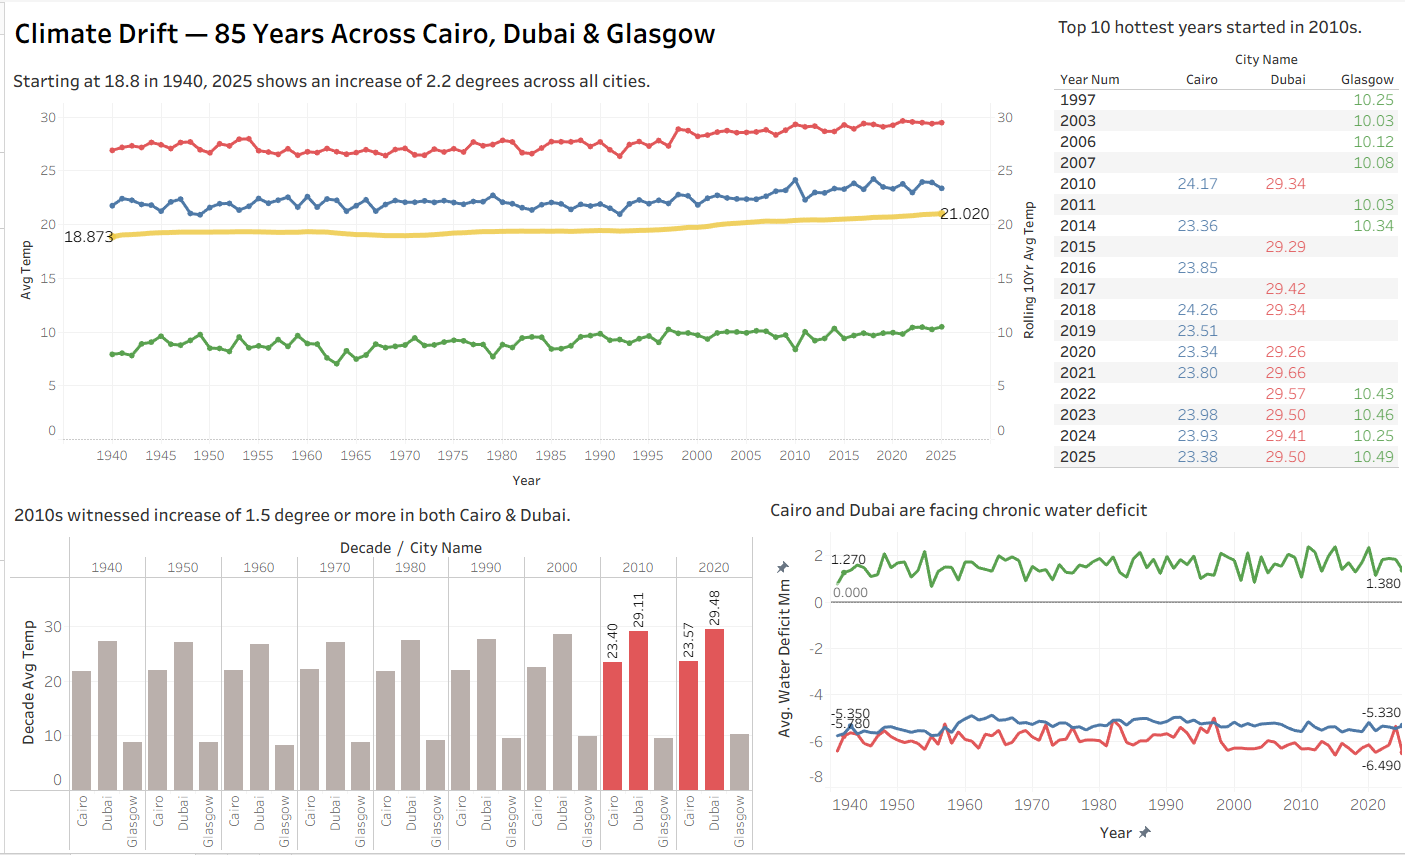

This screenshot's page, from the dashboard's own definition file:
{"tool":"tableau","page":{"name":"Dashboard 1","canvas":[1400,930],"ordinal":0},"visuals":[{"type":"title","box":[6,5,1028,50]},{"type":"worksheet","title":"Sheet 4","mark":"Automatic","rows":["year_num"],"cols":["city_name"],"box":[1049,8,348,489]},{"type":"worksheet","title":"Sheet 1","mark":"Automatic","rows":["avg_temp_mean","rolling_10yr_avg_temp"],"cols":["year_num"],"box":[4,62,1035,432]},{"type":"worksheet","title":"Sheet 3","mark":"Automatic","rows":["water_deficit_mm"],"cols":["year_num"],"box":[761,491,636,357]},{"type":"worksheet","title":"Sheet 2","mark":"Bar","rows":["decade_avg_temp"],"cols":["decade","city_name"],"box":[5,496,743,353]}]}

Visuals, with their boxes on the page's 1400x930 design canvas (x1, y1, x2, y2). These are canvas units, not pixel positions in the 1405x855 screenshot, which may show the page scaled, cropped or inside an application window:
title: {"left": 6, "top": 5, "right": 1034, "bottom": 55}
"Sheet 4" worksheet: {"left": 1049, "top": 8, "right": 1397, "bottom": 497}
"Sheet 1" worksheet: {"left": 4, "top": 62, "right": 1039, "bottom": 494}
"Sheet 3" worksheet: {"left": 761, "top": 491, "right": 1397, "bottom": 848}
"Sheet 2" worksheet (Bar marks): {"left": 5, "top": 496, "right": 748, "bottom": 849}
